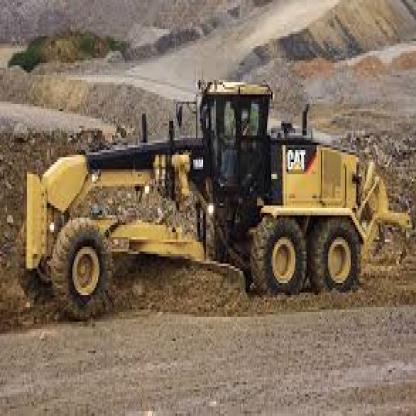bull_dozer/loader/grader: (18, 48, 409, 332)
